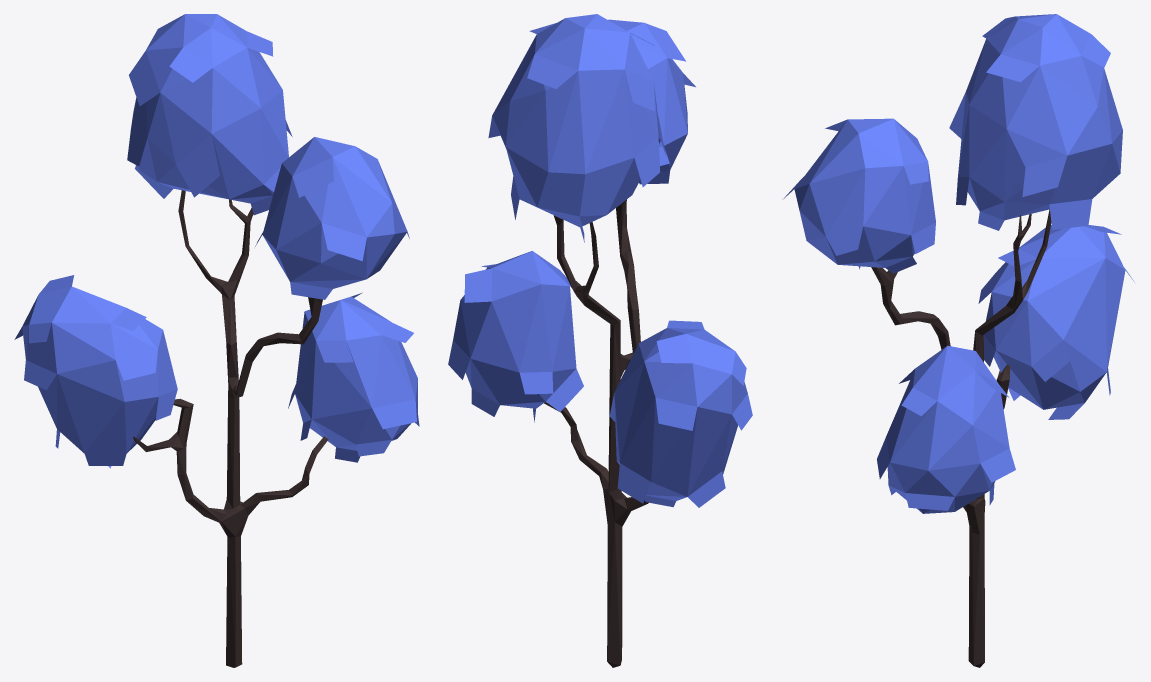
File: Tree_Forest_Blue_04.glb
3 renders of one model, left to right at view 1: azimuth 30°, elevation 25°; view 2: azimuth 150°, elevation 25°; view 3: azimuth 270°, elevation 25°, orthographic. The views are drawn at different scales.
Parts seen in each view (by area): view 1: Tree_Forest_Blue_04; view 2: Tree_Forest_Blue_04; view 3: Tree_Forest_Blue_04.
Part boxes in pixels (bbox=[...]): Tree_Forest_Blue_04: bbox=[14, 14, 419, 667]; Tree_Forest_Blue_04: bbox=[448, 14, 752, 667]; Tree_Forest_Blue_04: bbox=[782, 14, 1134, 667].
Size of what is drawn, in the model's own units: 4.26 by 7.9 by 3.92.
Materials: 1 (1 with a texture image).
